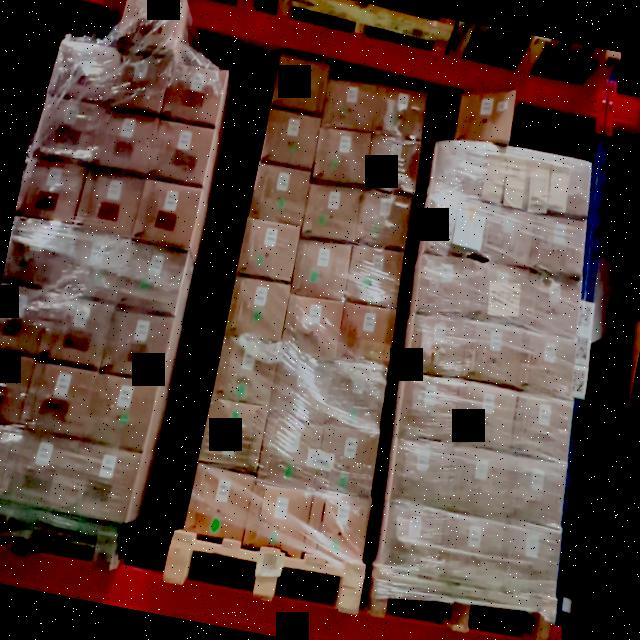box: (3, 430, 79, 508), (66, 444, 140, 524), (24, 362, 96, 438), (85, 374, 154, 452), (58, 227, 130, 301), (102, 306, 172, 381), (41, 295, 113, 367), (199, 397, 268, 472), (497, 520, 563, 598), (303, 490, 371, 564), (186, 467, 253, 542), (446, 446, 513, 520), (2, 216, 68, 290), (268, 353, 336, 424), (120, 242, 187, 314), (439, 514, 506, 585), (256, 421, 324, 490), (148, 119, 216, 188), (76, 168, 144, 237), (380, 503, 446, 574), (316, 424, 380, 496), (396, 375, 461, 444), (19, 155, 84, 224), (245, 488, 312, 554), (92, 106, 158, 173), (327, 359, 387, 432), (214, 337, 278, 405), (136, 179, 200, 247), (36, 94, 100, 162), (390, 441, 454, 508), (162, 60, 228, 124), (504, 456, 566, 524), (106, 51, 170, 116), (454, 382, 517, 448), (227, 276, 290, 342), (52, 38, 116, 102), (462, 320, 524, 384), (512, 394, 572, 460), (337, 300, 397, 366), (280, 296, 343, 358), (406, 316, 468, 378), (470, 262, 530, 326), (422, 197, 484, 258), (238, 219, 300, 280), (290, 240, 352, 301), (250, 163, 310, 226), (518, 332, 577, 396), (524, 272, 582, 336), (346, 243, 403, 308), (416, 255, 476, 314), (534, 154, 592, 214), (482, 146, 542, 204), (430, 143, 490, 201), (479, 205, 536, 266), (262, 110, 321, 168), (530, 213, 587, 273), (272, 56, 330, 114), (303, 183, 362, 240), (356, 190, 412, 250), (366, 133, 422, 191), (312, 129, 371, 184), (455, 88, 516, 141), (120, 0, 180, 51), (321, 80, 377, 132), (372, 86, 428, 138)
